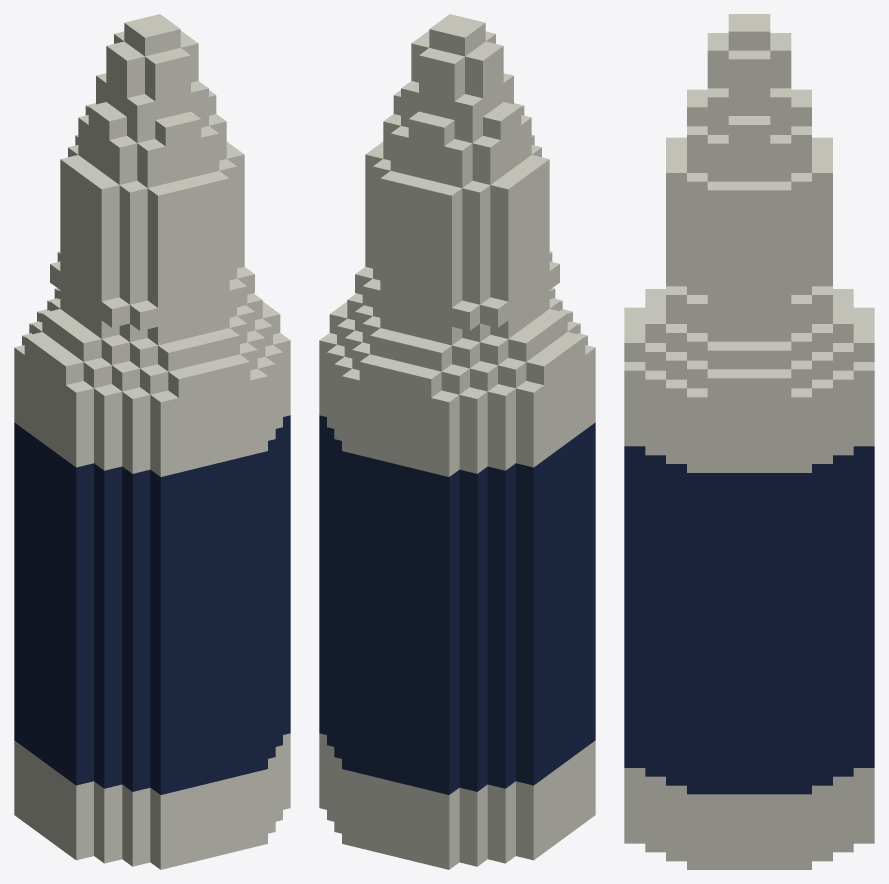
The model's file is eyedrops.glb.
3 views of the same model, side by side, from view 1: azimuth 30°, elevation 25°; view 2: azimuth 150°, elevation 25°; view 3: azimuth 270°, elevation 25° (orthographic).
Parts seen in each view (by area): view 1: eyedrops:compound; view 2: eyedrops:compound; view 3: eyedrops:compound.
Part boxes in pixels (box(x1,y1,x2,y2)): eyedrops:compound: box(14, 14, 290, 869); eyedrops:compound: box(319, 14, 595, 869); eyedrops:compound: box(624, 14, 874, 869).
Bounding box in the file's own units: 0.024 × 0.084 × 0.024.
